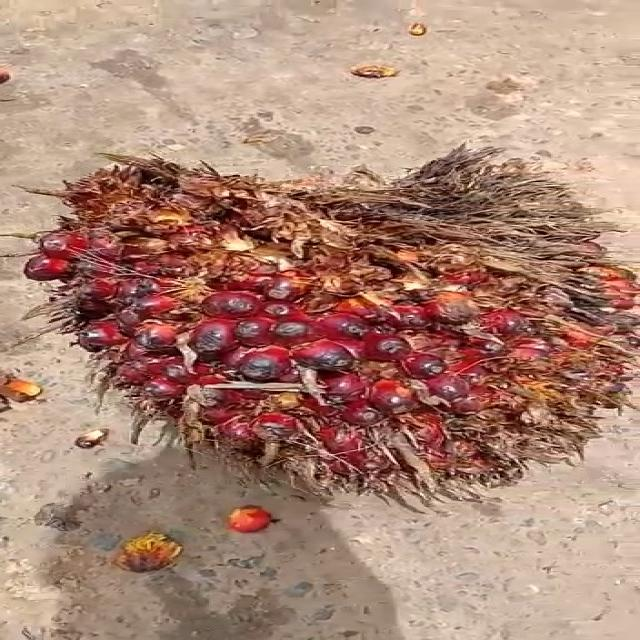palm oil: (45, 146, 640, 508)
